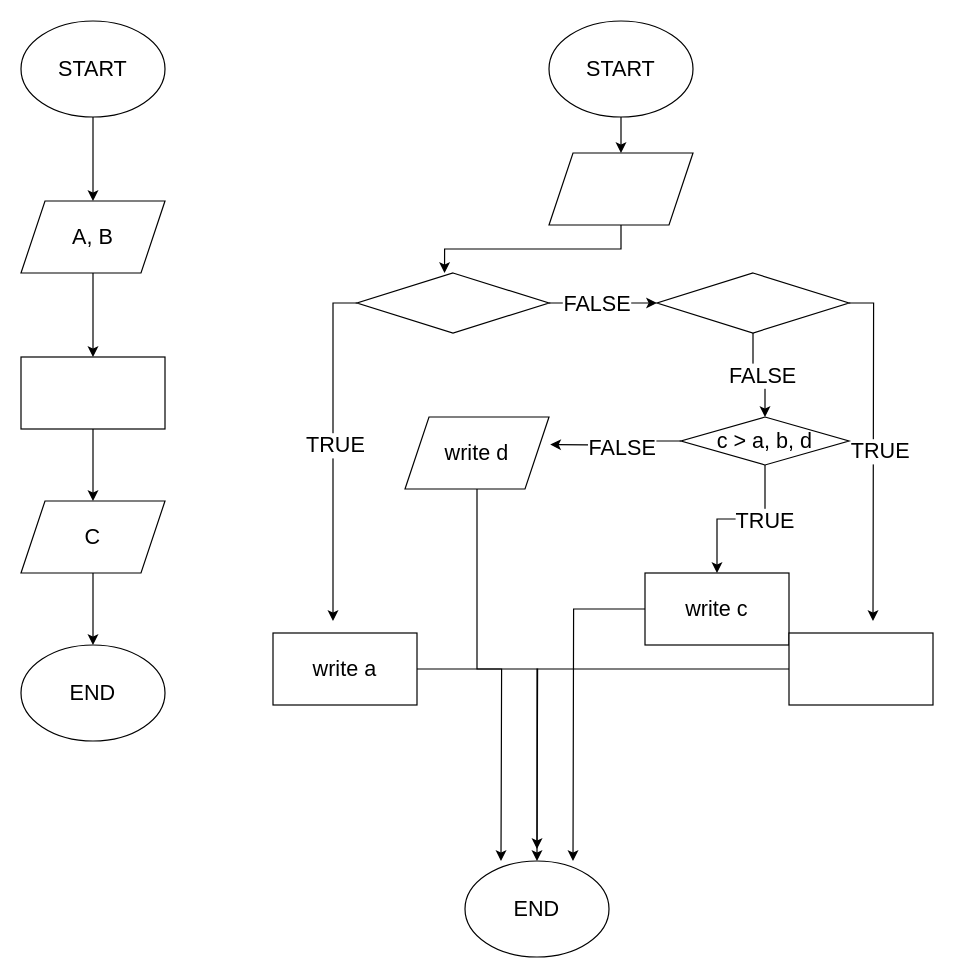
The diagram is 954 pixels wide and 978 high, and some of its shapes have lost their labels. The shapes that lost their labels are listed below. From the top down, each one's centre as x and y in pixels, then its label:
At (620,188): "a, b, c, d".
At (452,302): "a > b, c, d".
At (752,302): "b > a, c, d".
At (92,392): "C = √(A² - B²)".
At (860,668): "write b".
